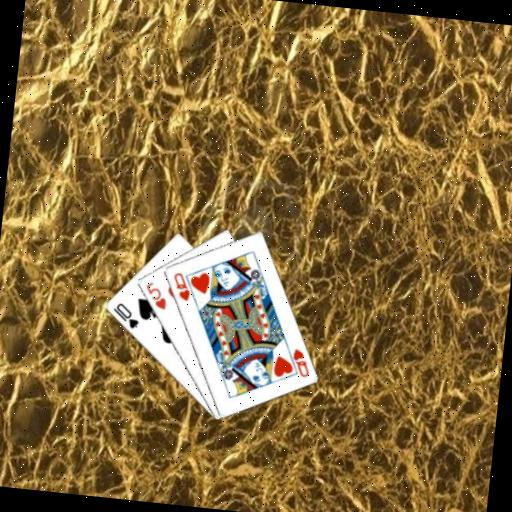10S: (108, 299, 142, 331)
5H: (140, 278, 170, 311)
QH: (281, 344, 313, 379), (168, 269, 194, 303)
